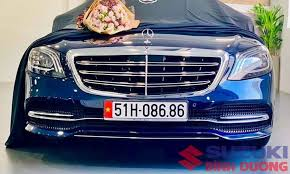number-plate: (113, 100, 188, 119)
